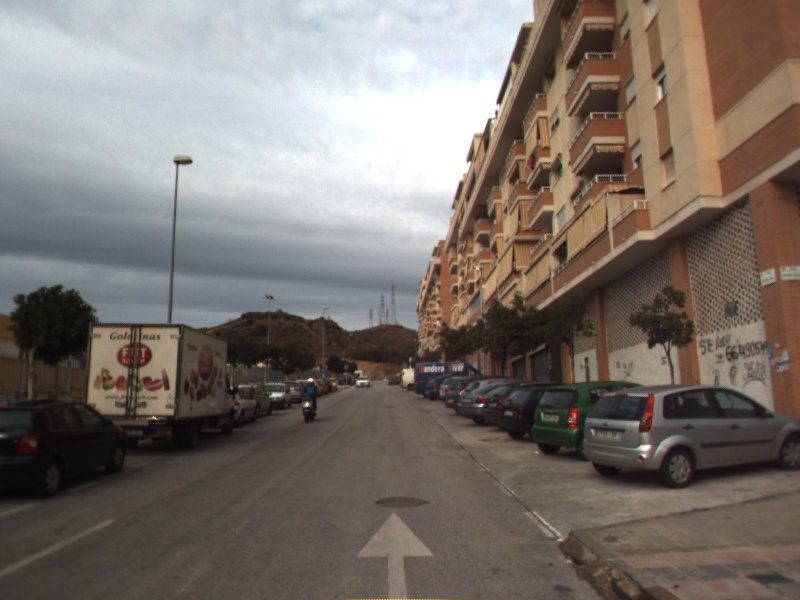STRAIGHT: (354, 509, 437, 600)
